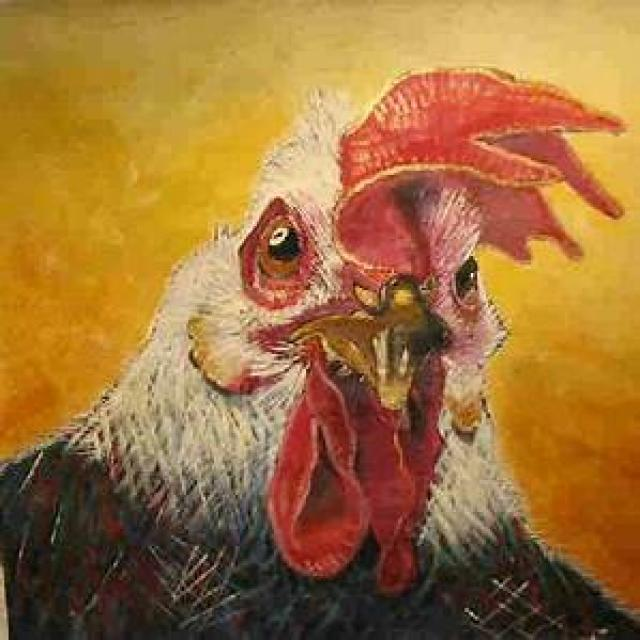animal: (0, 64, 638, 638)
